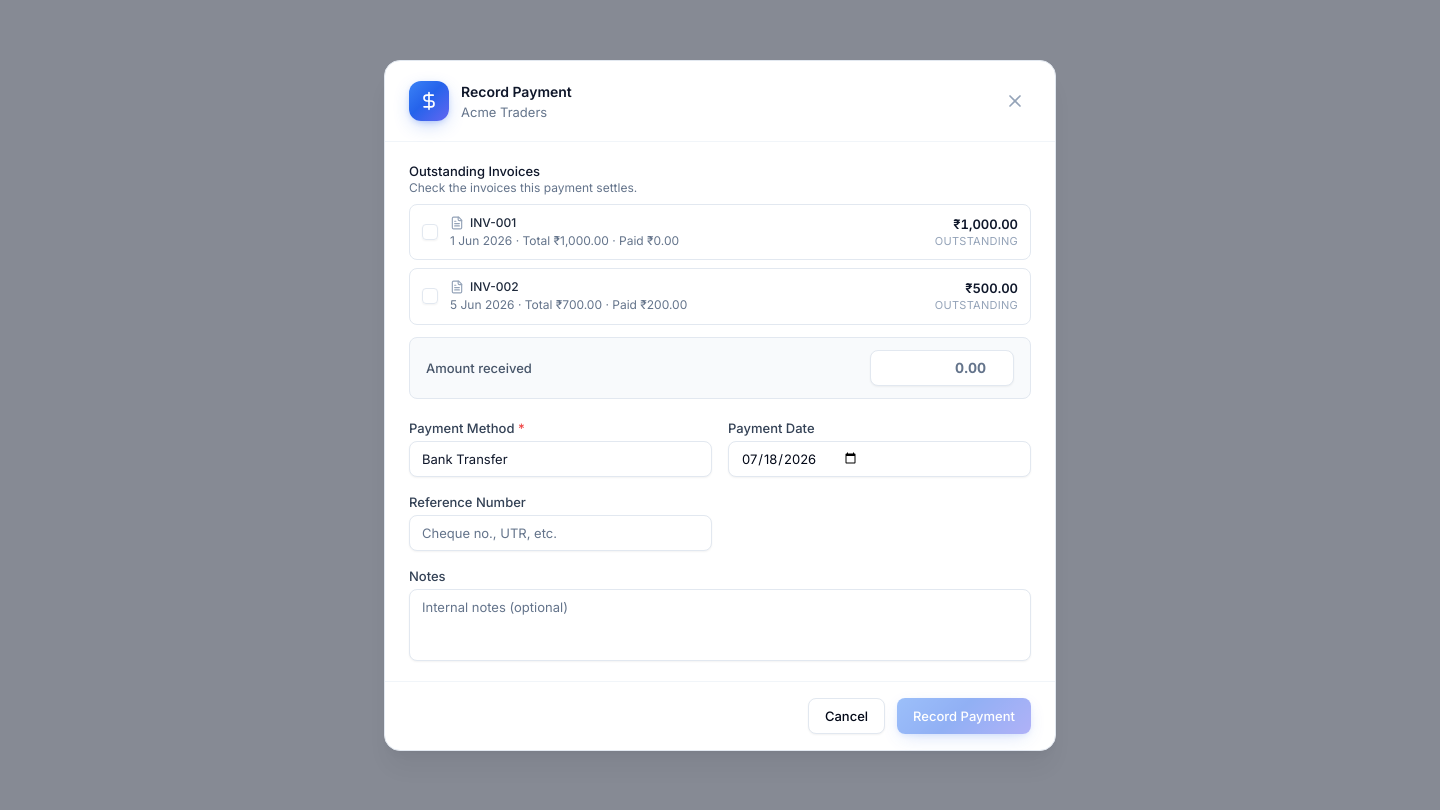
Scenario: RecordCustomerPaymentDialog › displays the server error message when the action fails
Click the checkbox named "select invoice INV-001" at (430, 232), box [422,224,438,240]
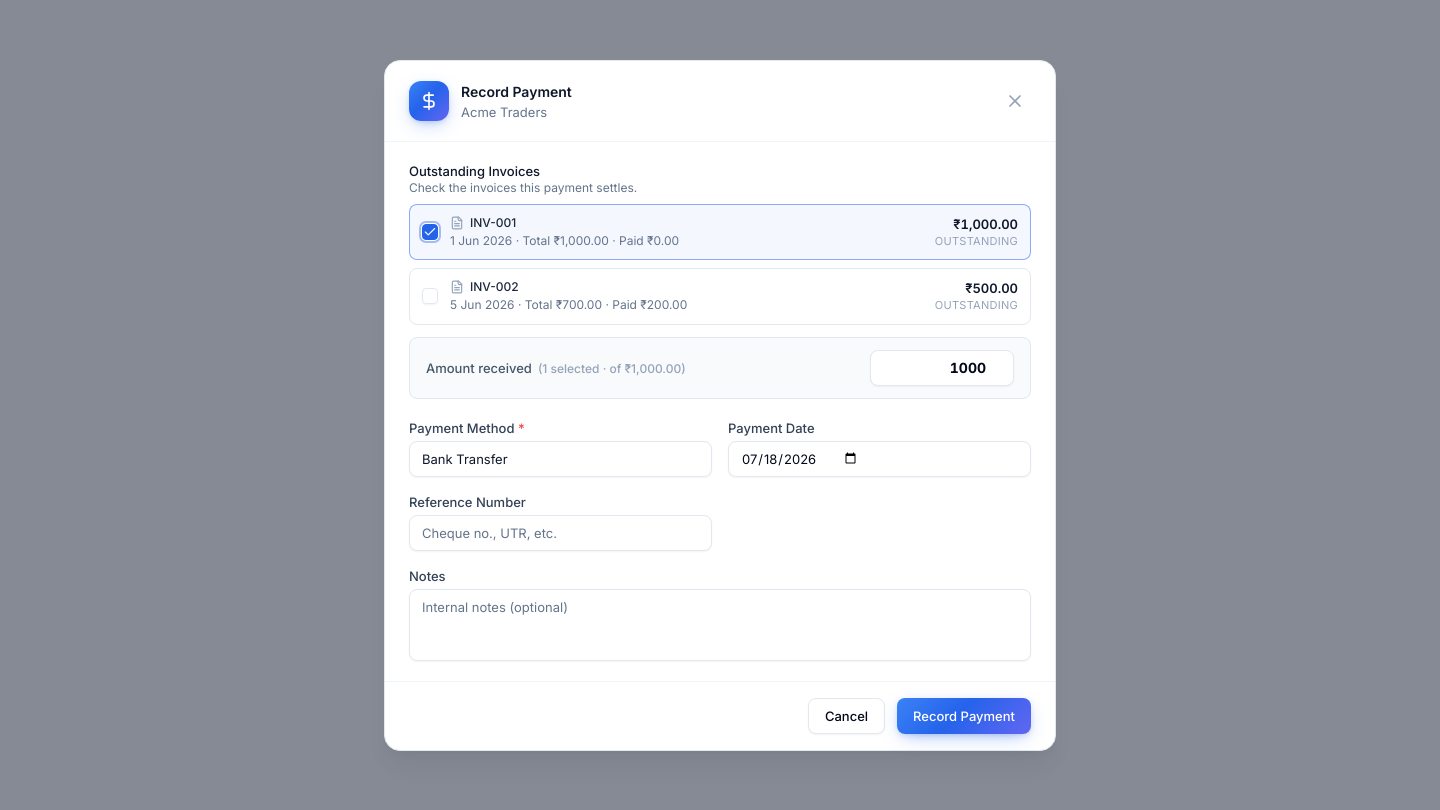
Click the button "Record Payment" at (964, 716), box [897,698,1031,734]
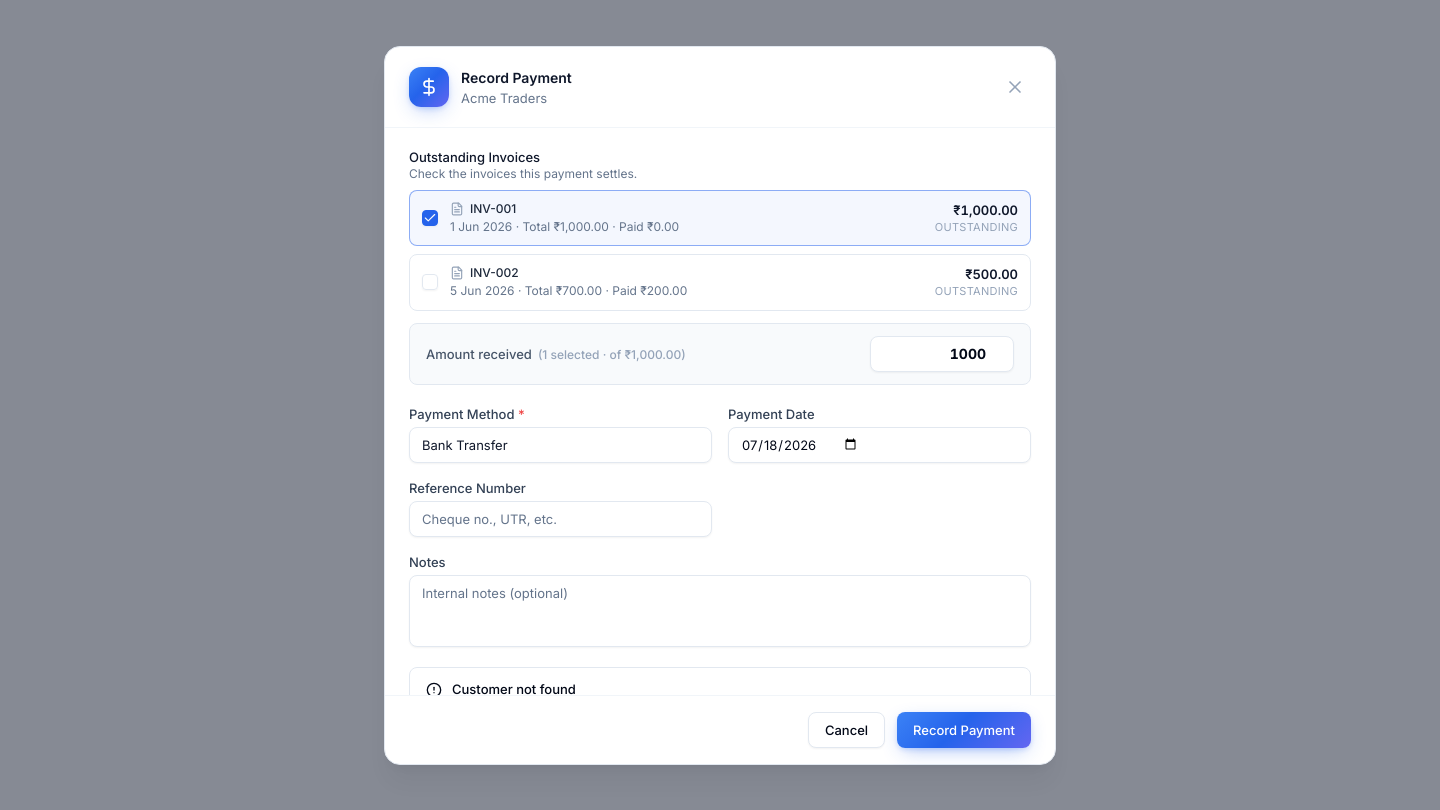
Check: the text "Customer not found" is shown, box [452,680,576,694]
